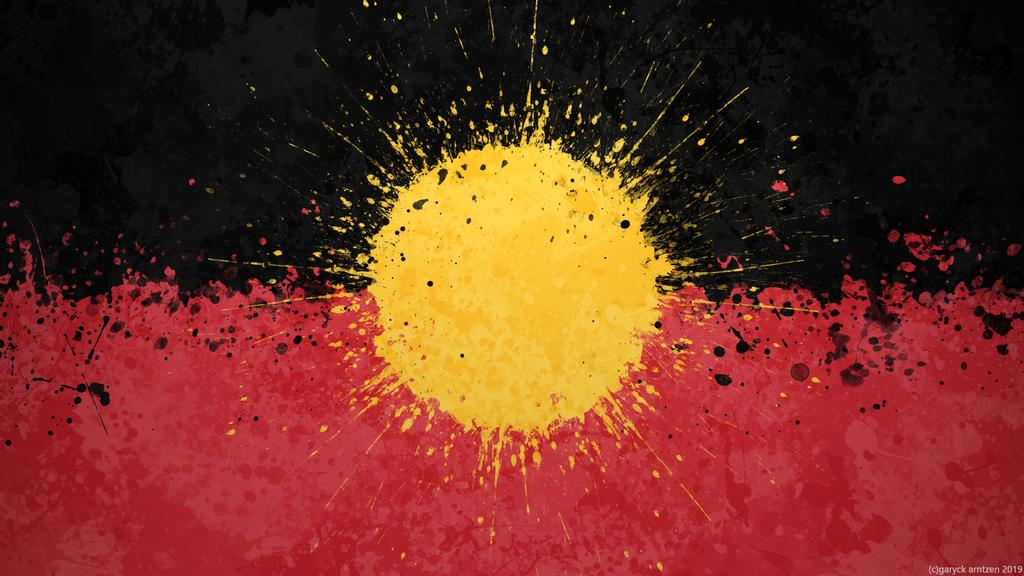aboriginal_flag: (2, 1, 1015, 576)
